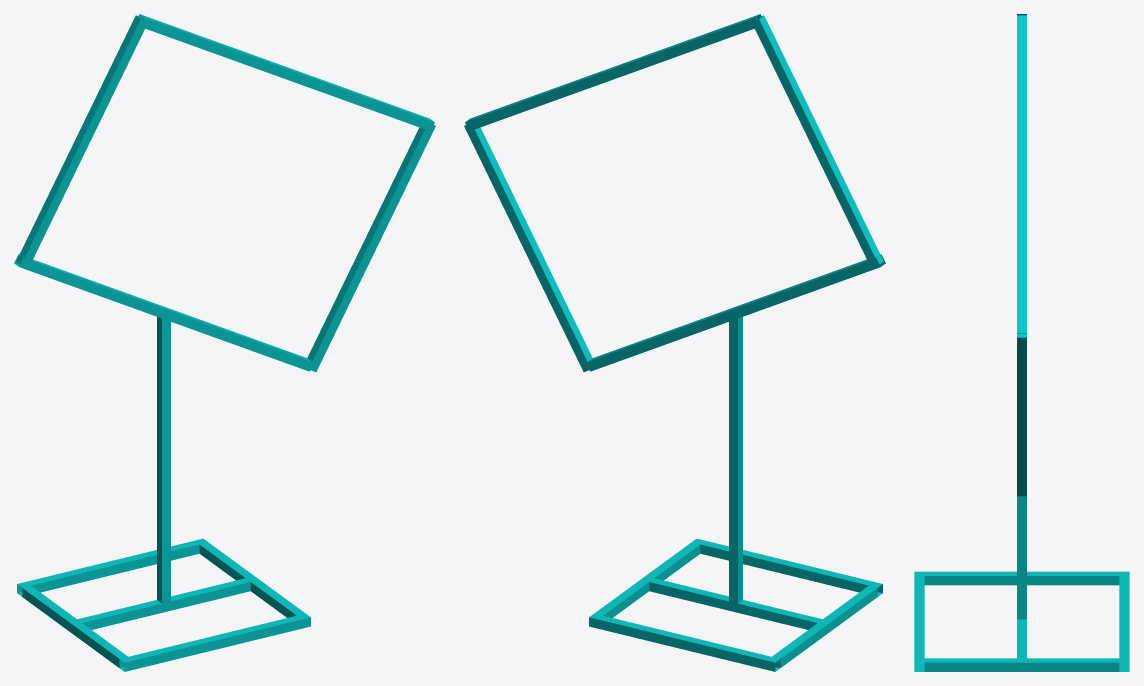
File: normal_gate_1.dae
3 renders of one model, left to right at view 1: azimuth 30°, elevation 25°; view 2: azimuth 150°, elevation 25°; view 3: azimuth 270°, elevation 25°, orthographic.
Parts seen in each view (by area): view 1: gate_l, stick, gate_r, gate_t, gate_b, base_f, base_b, base_c, base_l, base_r; view 2: gate_l, stick, gate_r, gate_b, gate_t, base_b, base_c, base_f, base_l, base_r; view 3: gate_t, base_l, base_r, gate_r, stick, base_b, base_f, base_c.
Part boxes in pixels (<box>): gate_l: <box>16,15,147,267</box>; stick: <box>157,313,170,612</box>; gate_r: <box>307,123,435,371</box>; gate_t: <box>138,14,434,129</box>; gate_b: <box>14,254,313,371</box>; base_f: <box>119,613,310,671</box>; base_b: <box>17,538,207,596</box>; base_c: <box>73,578,250,629</box>; base_l: <box>22,585,127,667</box>; base_r: <box>199,542,305,617</box>; gate_l: <box>752,15,883,267</box>; stick: <box>729,313,742,612</box>; gate_r: <box>464,123,592,371</box>; gate_b: <box>587,254,885,371</box>; gate_t: <box>465,14,761,129</box>; base_b: <box>589,613,780,671</box>; base_c: <box>645,577,826,629</box>; base_f: <box>692,538,882,596</box>; base_l: <box>772,585,877,667</box>; base_r: <box>594,542,700,617</box>; gate_t: <box>1017,15,1026,337</box>; base_l: <box>924,571,1119,585</box>; base_r: <box>924,658,1119,671</box>; gate_r: <box>1017,333,1026,496</box>; stick: <box>1017,496,1026,619</box>; base_b: <box>1119,571,1129,671</box>; base_f: <box>914,571,924,671</box>; base_c: <box>1017,619,1026,660</box>.
Size of the model in its own units: 2.35 by 1.05 by 3.23.
